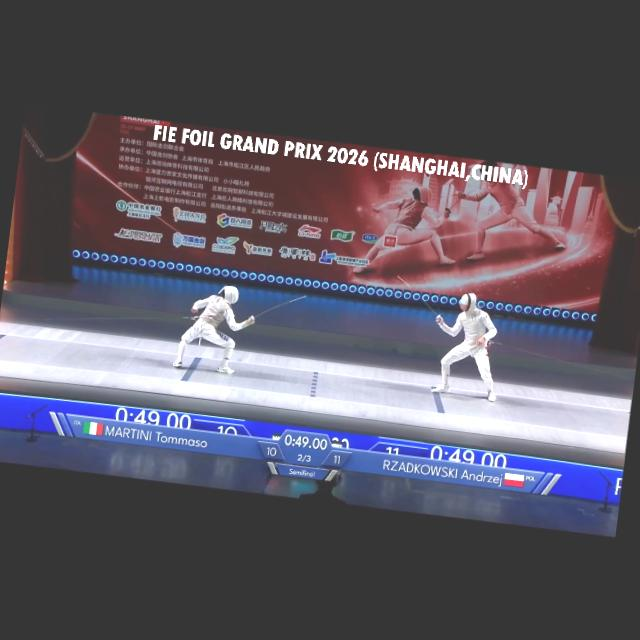blade: (387, 272, 448, 325), (246, 287, 310, 331)
